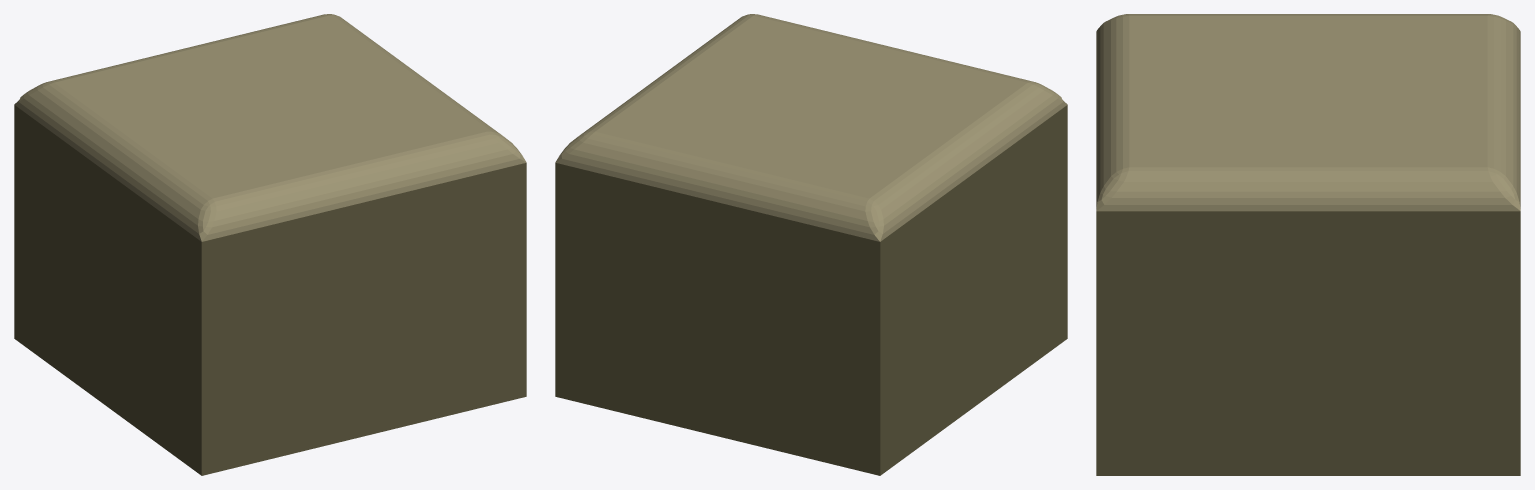
File: MonsterMount_Block.fbx
The picture shows the model from 3 angles, left to right: view 1: azimuth 30°, elevation 25°; view 2: azimuth 150°, elevation 25°; view 3: azimuth 270°, elevation 25°; orthographic projection. The views are drawn at different scales.
Visible parts, largest first — view 1: 立方体; view 2: 立方体; view 3: 立方体.
Part boxes in pixels (x1,y1,x2,y2): 立方体: [14, 14, 526, 475]; 立方体: [555, 14, 1067, 475]; 立方体: [1096, 14, 1520, 475].
Size of the model in its own units: 202 by 155 by 202.
